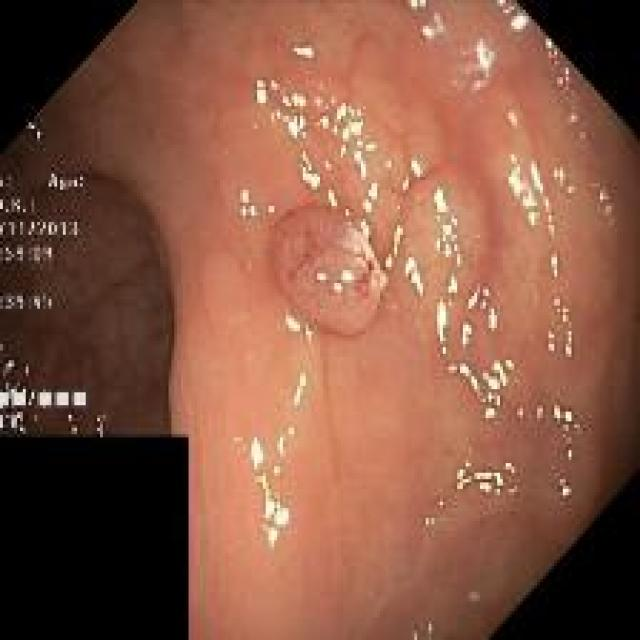Polyps: (274, 207, 388, 336)
